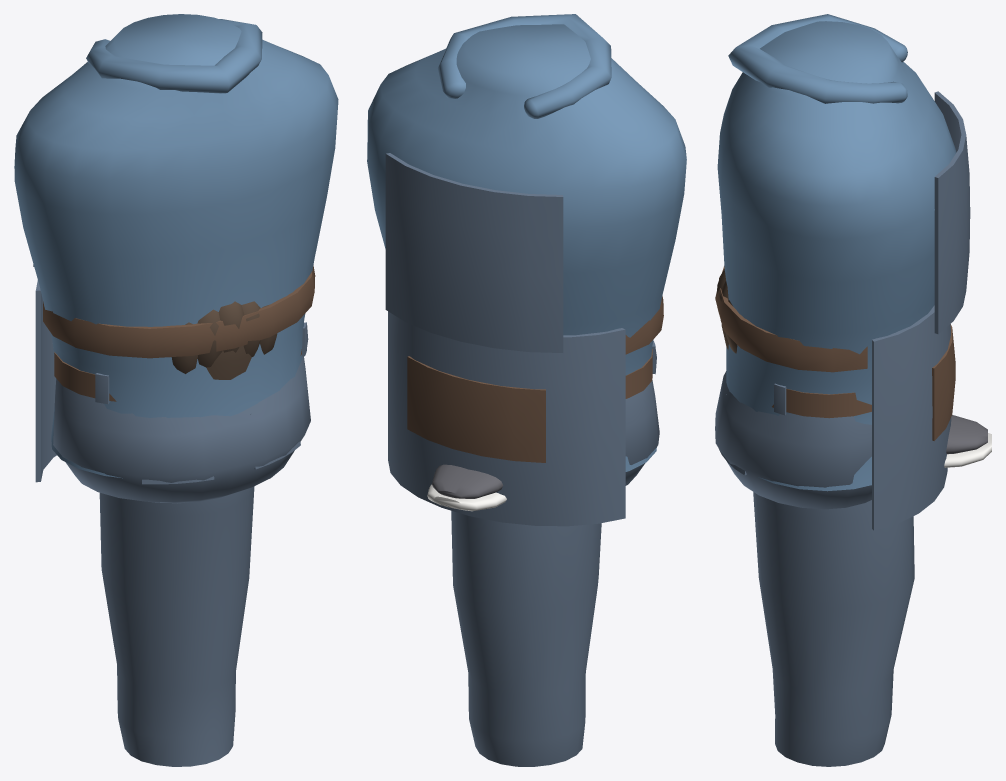
Rendered from Character_Shopkeeper.fbx.
3 renders of one model, left to right at view 1: azimuth 30°, elevation 25°; view 2: azimuth 150°, elevation 25°; view 3: azimuth 270°, elevation 25°, orthographic.
Visible parts, largest first — view 1: Part_Chest, Part_L_Thigh, Part_Pelvis, Part_Head; view 2: Part_Chest, Part_L_Thigh, Part_Pelvis, Part_L_Foot; view 3: Part_Chest, Part_L_Thigh, Part_Pelvis, Part_L_Foot.
Boxes of the visible parts, x1,y1,x2,y2 form: Part_Chest: (14,14,338,482); Part_L_Thigh: (99,486,254,766); Part_Pelvis: (53,322,310,503); Part_Head: (171,301,277,379); Part_Chest: (367,14,686,526); Part_L_Thigh: (451,511,601,766); Part_Pelvis: (625,341,659,485); Part_L_Foot: (427,464,506,511); Part_Chest: (715,14,970,530); Part_L_Thigh: (753,492,914,766); Part_Pelvis: (715,371,871,509); Part_L_Foot: (944,415,991,467).
Bounding box in the file's own units: 0.432 × 0.9628 × 0.3451.
